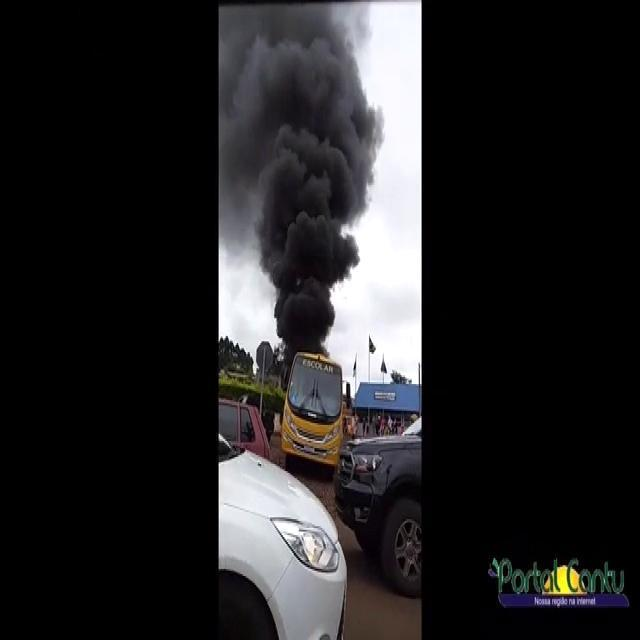Smoke: (218, 8, 396, 358)
